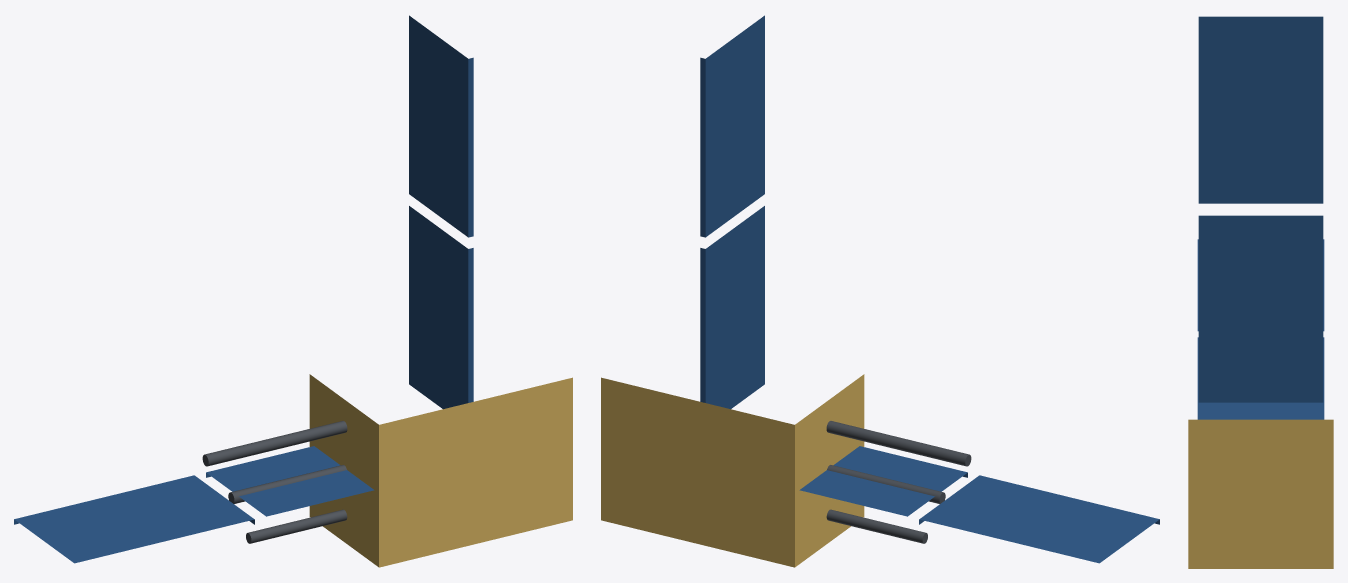
The picture shows the model from 3 angles, left to right: view 1: azimuth 30°, elevation 25°; view 2: azimuth 150°, elevation 25°; view 3: azimuth 270°, elevation 25°; orthographic projection. The views are drawn at different scales.
Size of the model in its own units: 9.37 by 8.74 by 2.28.
